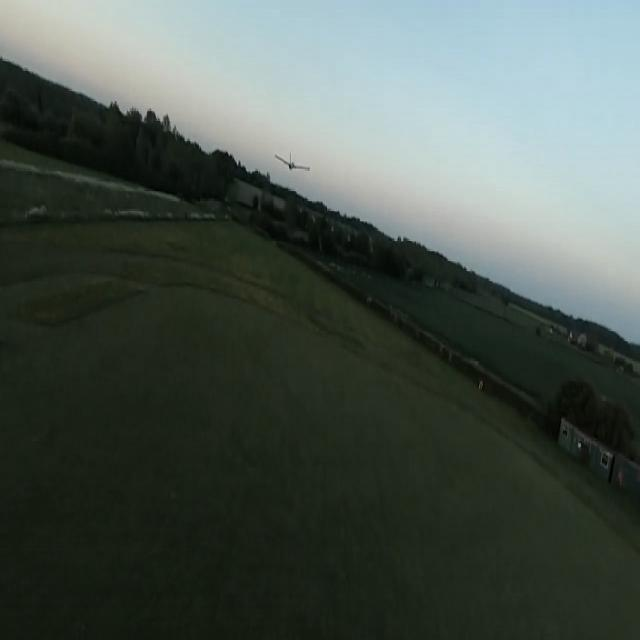iha: (273, 152, 312, 174)
